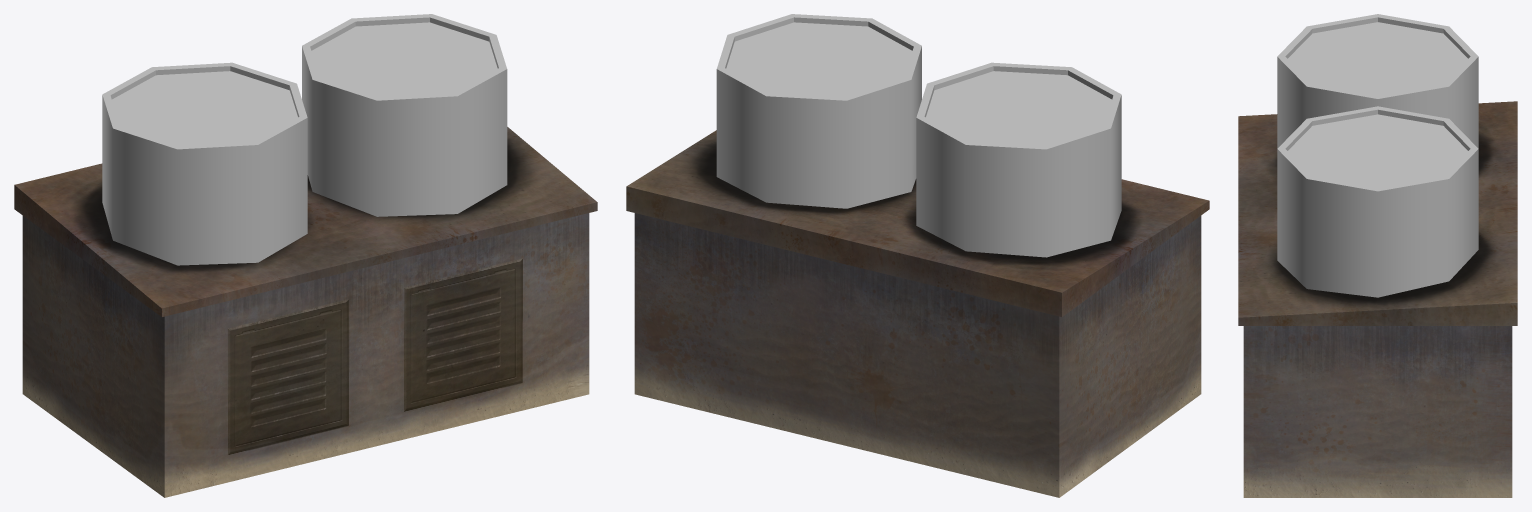
The model's file is Caseta_Tuberias.FBX.
The picture shows the model from 3 angles, left to right: view 1: azimuth 30°, elevation 25°; view 2: azimuth 150°, elevation 25°; view 3: azimuth 270°, elevation 25°; orthographic projection. The views are drawn at different scales.
Parts seen in each view (by area): view 1: caseta, Cone003, Cone001, tejado_caseta; view 2: caseta, Cone003, Cone001, tejado_caseta; view 3: caseta, Cone001, tejado_caseta, Cone003.
Boxes of the visible parts, box(x1,y1,x2,y2) form: caseta: box(22, 213, 589, 497); Cone003: box(102, 62, 307, 265); Cone001: box(302, 14, 507, 216); tejado_caseta: box(14, 127, 597, 316); caseta: box(634, 213, 1201, 497); Cone003: box(916, 62, 1121, 257); Cone001: box(716, 14, 921, 208); tejado_caseta: box(626, 130, 1209, 316); caseta: box(1243, 326, 1512, 497); Cone001: box(1277, 106, 1478, 297); tejado_caseta: box(1238, 101, 1517, 325); Cone003: box(1277, 14, 1478, 148).
Bounding box in the file's own units: 177 × 121 × 104.
